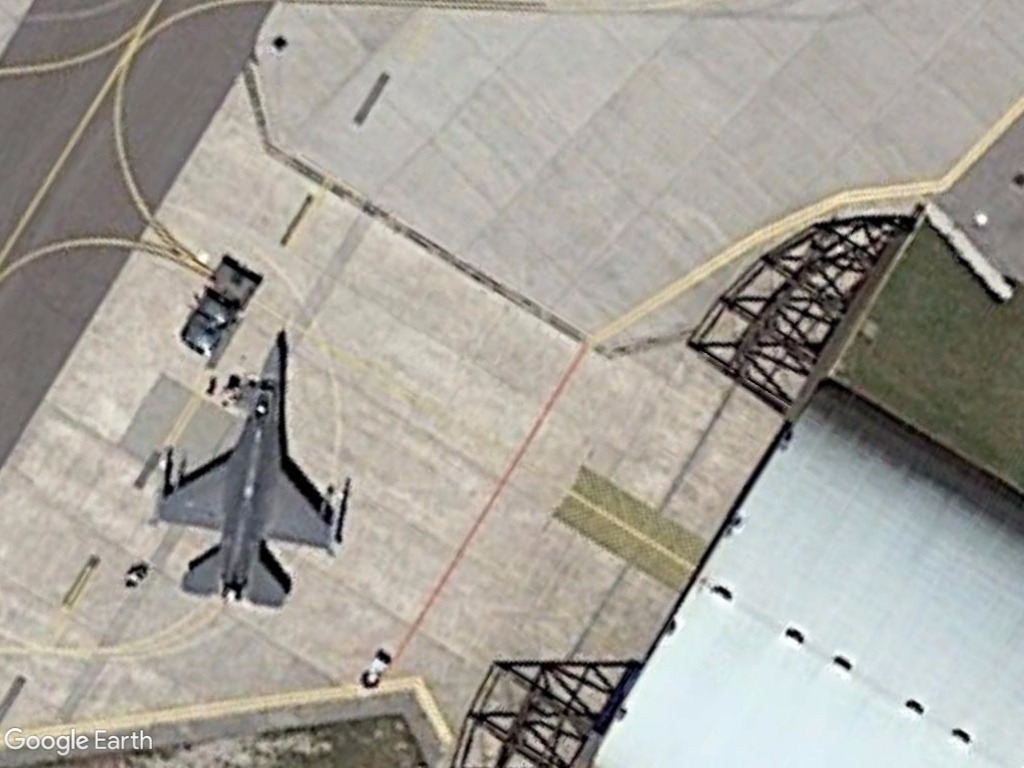fighter: (149, 327, 356, 622)
